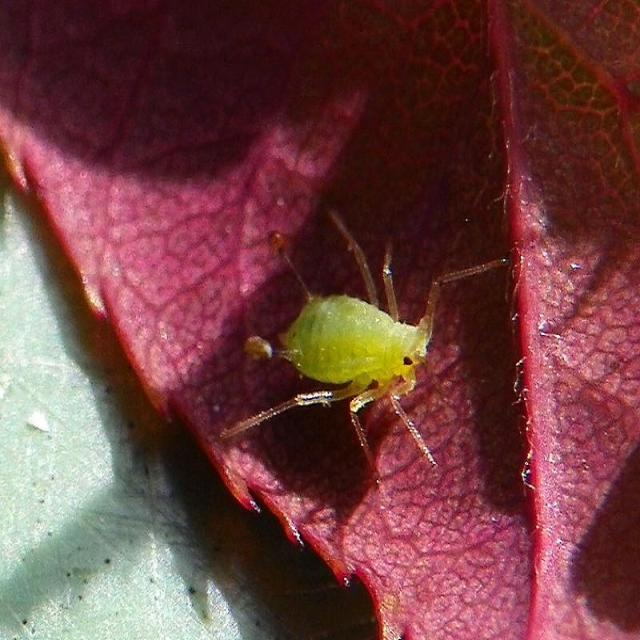aphid: (210, 202, 528, 464)
